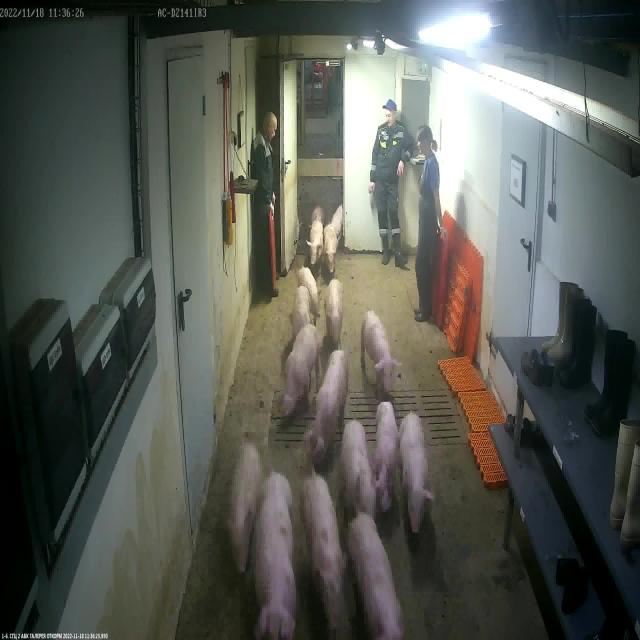pig: (305, 480, 348, 635), (258, 475, 296, 640), (352, 516, 401, 640), (304, 350, 346, 464), (400, 414, 432, 543), (228, 446, 260, 572), (340, 422, 374, 517), (281, 325, 316, 417), (372, 402, 398, 521), (360, 311, 396, 391), (328, 280, 344, 351), (297, 266, 320, 315), (292, 288, 310, 331), (306, 224, 322, 262), (324, 224, 336, 273), (332, 203, 343, 241), (310, 203, 324, 223)
